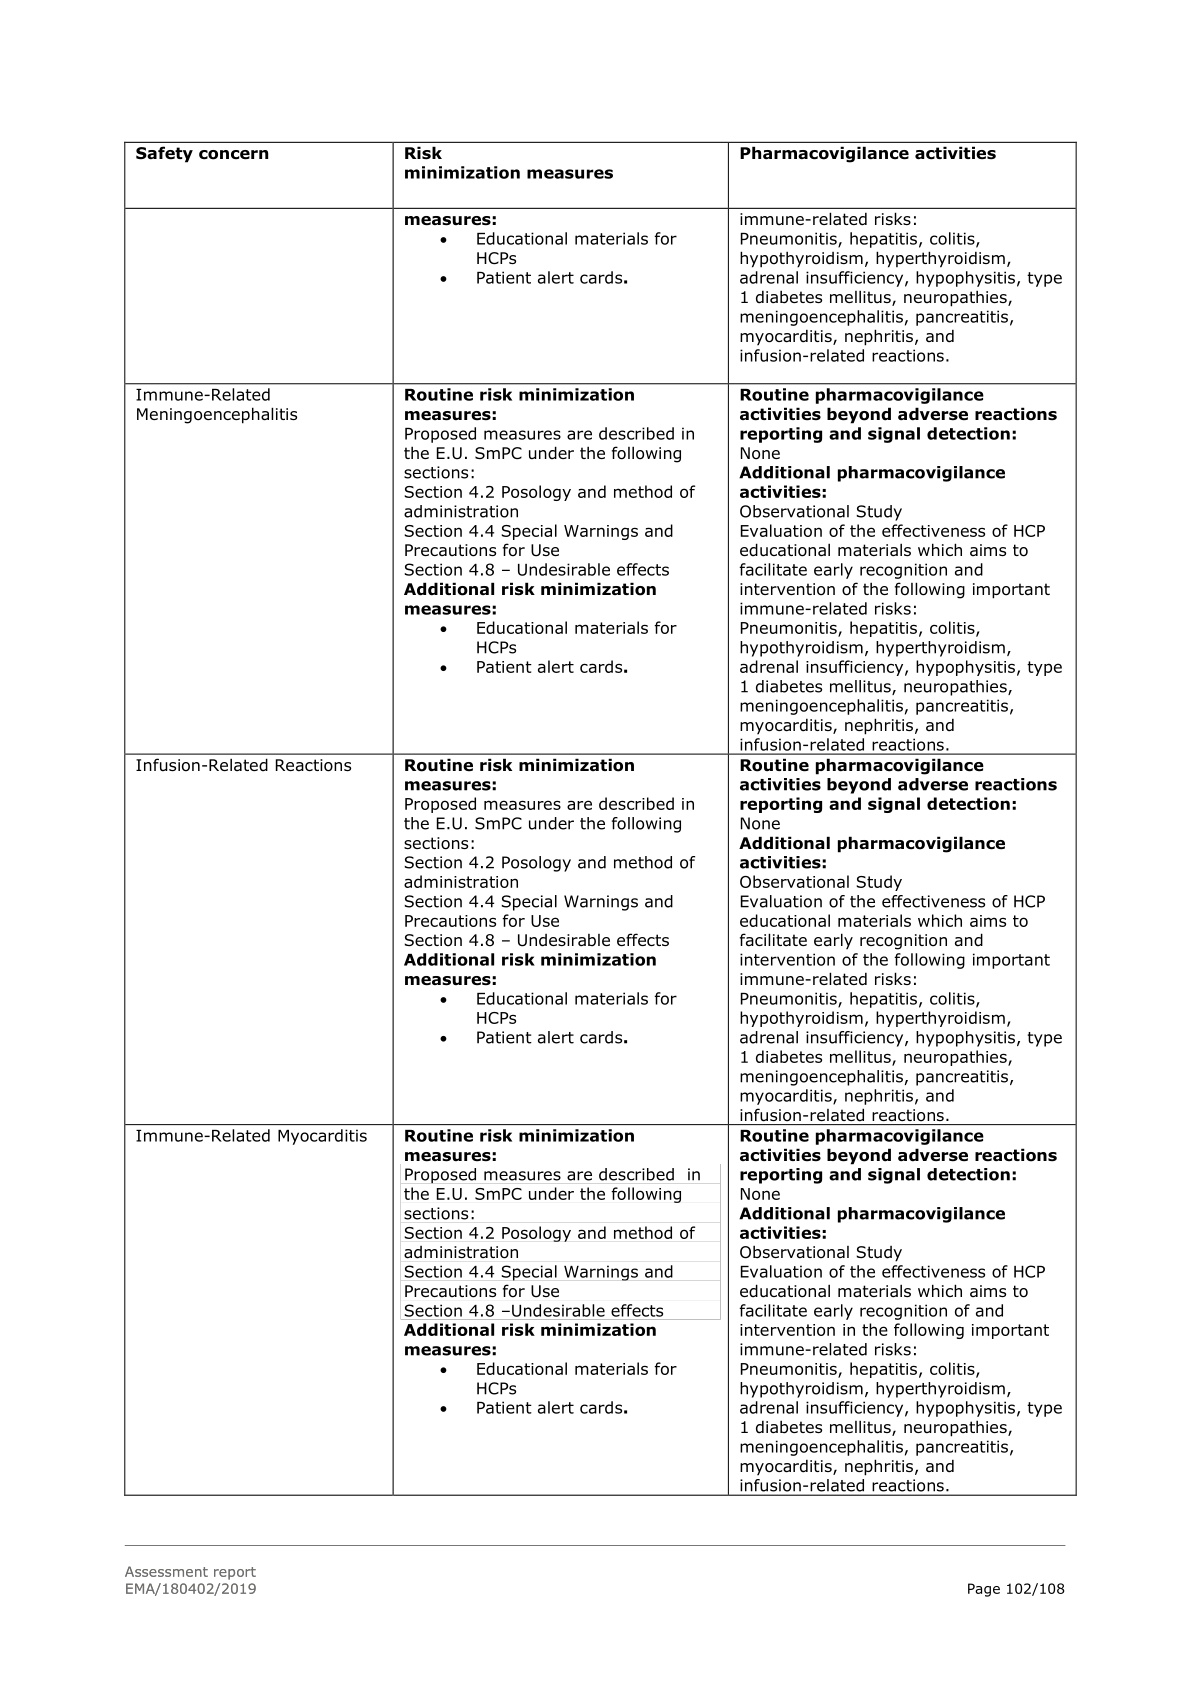full_lined: (124, 140, 1078, 1497)
